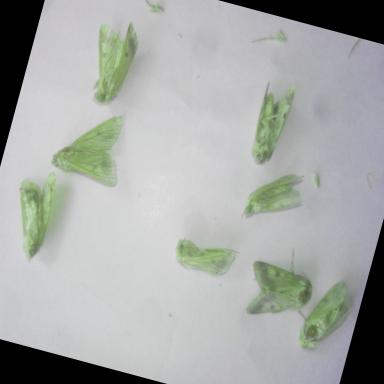abw: (236, 234, 328, 334), (46, 96, 138, 193), (76, 10, 148, 115), (286, 270, 362, 362), (0, 163, 63, 266), (240, 71, 302, 172), (238, 159, 314, 237), (168, 227, 244, 285)
